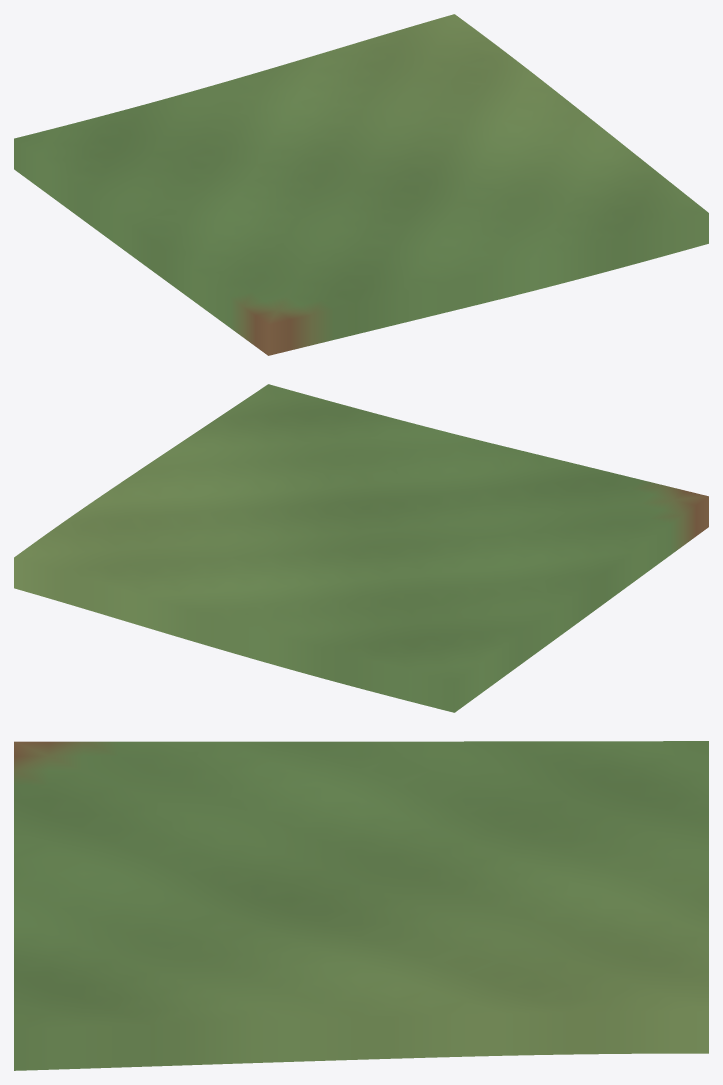
The picture shows the model from 3 angles, top to bottom: view 1: azimuth 30°, elevation 25°; view 2: azimuth 150°, elevation 25°; view 3: azimuth 270°, elevation 25°; orthographic projection. The views are drawn at different scales.
Visible parts, largest first — view 1: terrain; view 2: terrain; view 3: terrain.
Part boxes in pixels (bbox=[...]): terrain: bbox=[14, 14, 708, 355]; terrain: bbox=[14, 384, 708, 712]; terrain: bbox=[14, 741, 708, 1070].
Bounding box in the file's own units: 30 × 3.14 × 30.
